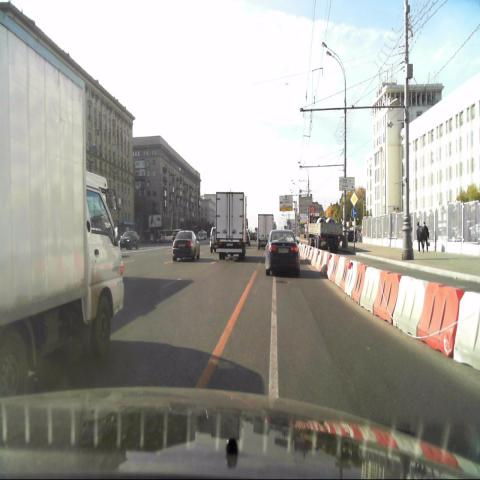2_1: (349, 192, 359, 208)
4_1_4: (350, 207, 358, 220)
